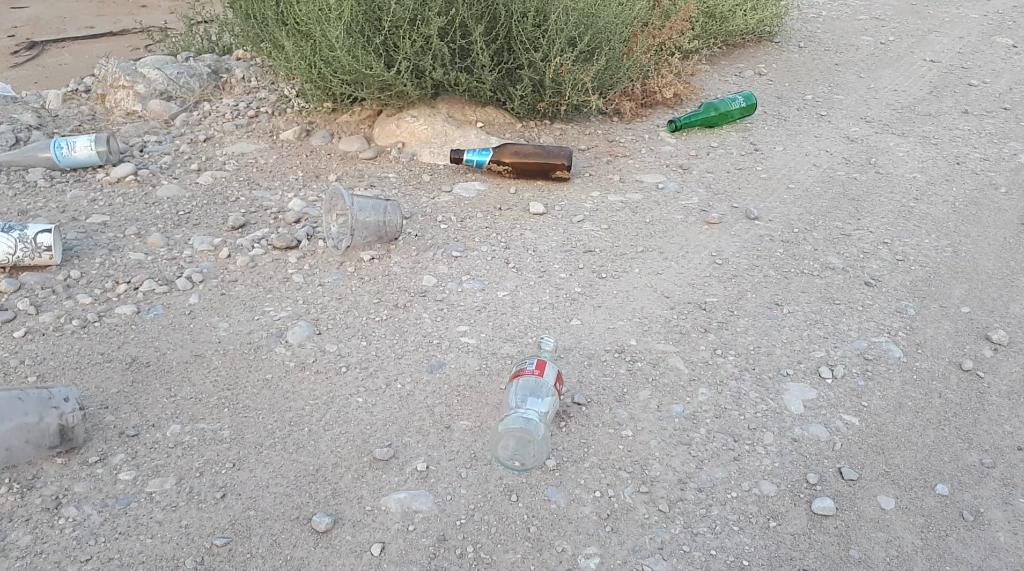garbage: (486, 300, 571, 474), (489, 335, 564, 472), (635, 81, 782, 149), (438, 140, 595, 190), (0, 137, 156, 167), (450, 143, 573, 181), (1, 133, 120, 171), (666, 90, 757, 132)
